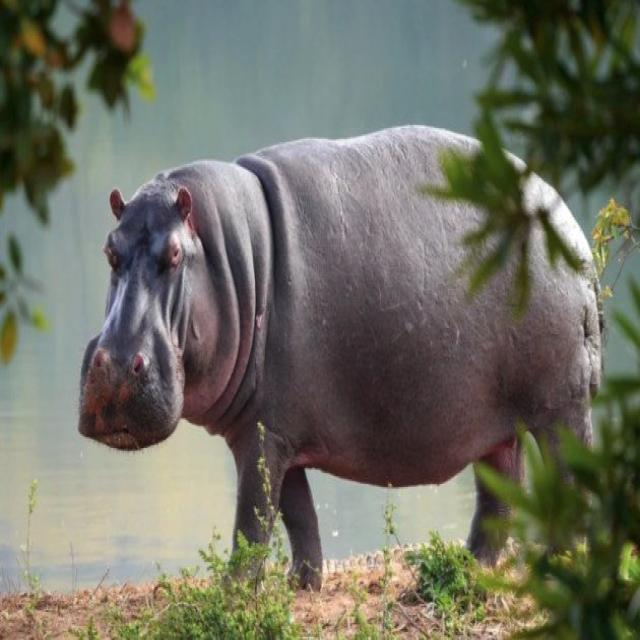Hippopotamus: (75, 121, 599, 570)
